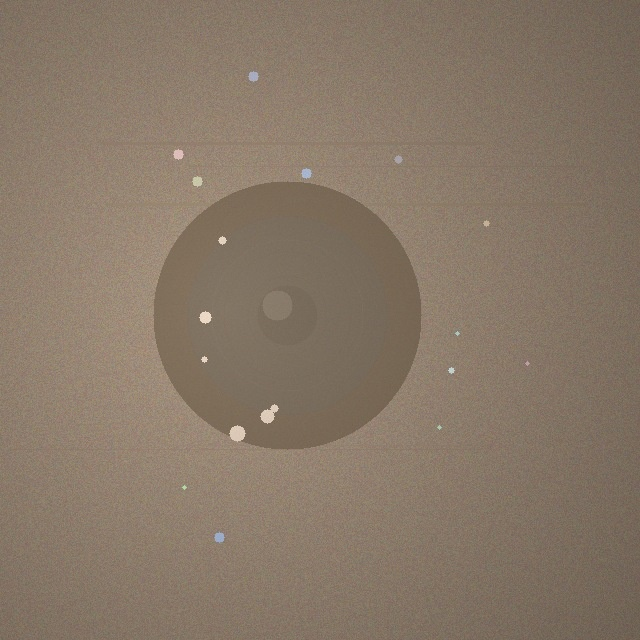overburn: (153, 181, 421, 449)
